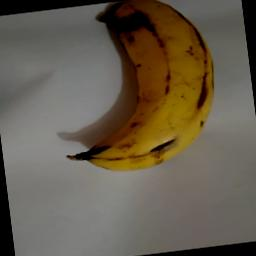Banana Unripe: (44, 0, 227, 181)
